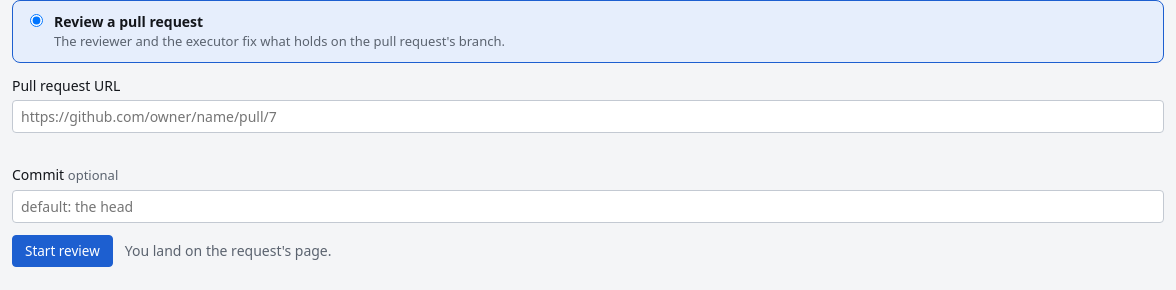
Test case: StartForm › sends a review its commit and no note
In the field labelled "Pull request URL": (588, 116) [12,100,1164,132], type "https://gitlab.com/g/p/-/merge_requests/5"
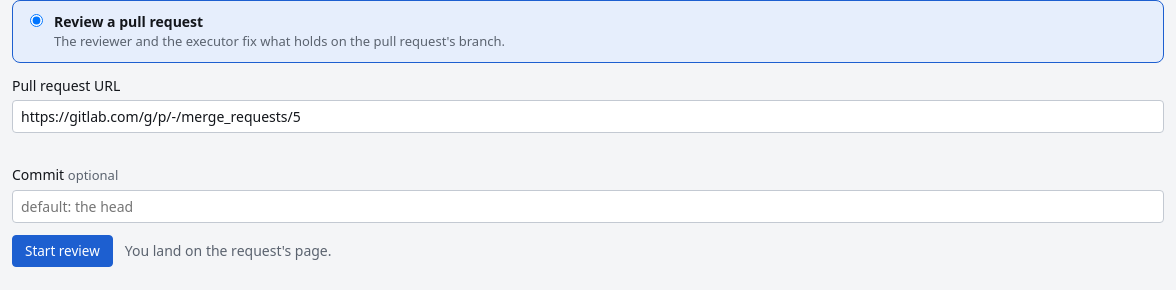
In the field labelled "Commit optional": (588, 206) [12,190,1164,223], type " abc1234 "
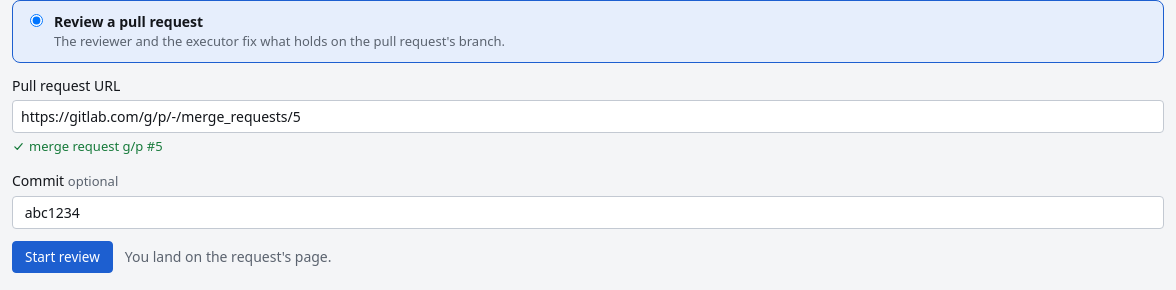
Check: the element showing "merge request g/p #5" is shown, box [12,136,163,156]
